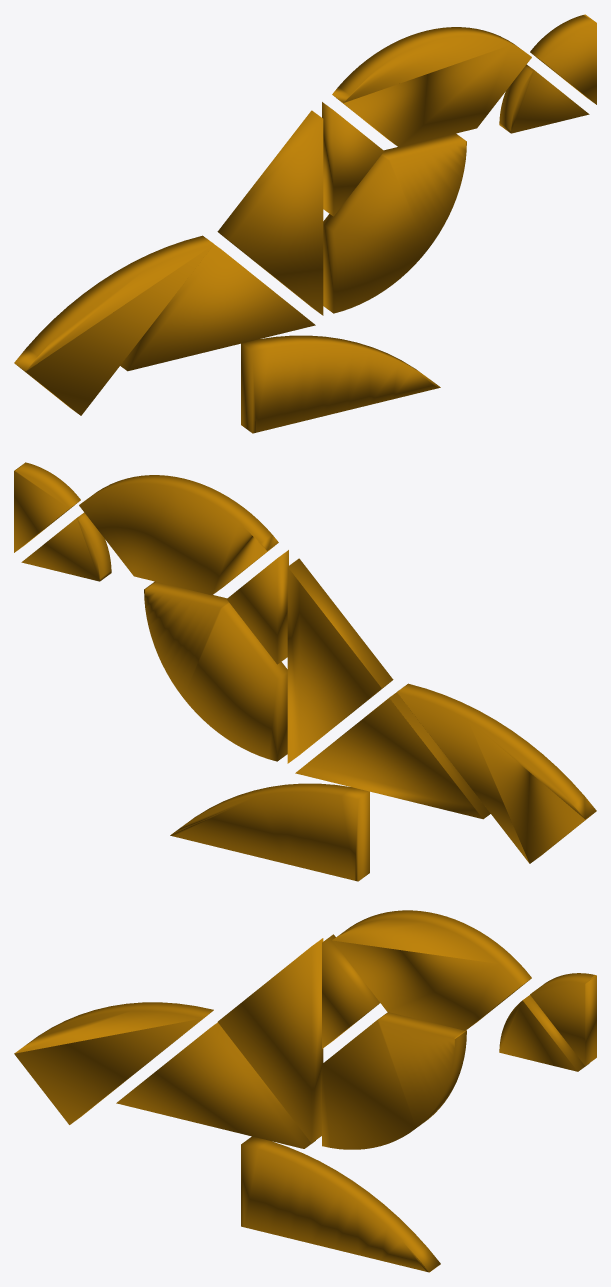
The model's file is Poultry.glb.
3 renders of one model, top to bottom at view 1: azimuth 30°, elevation 25°; view 2: azimuth 150°, elevation 25°; view 3: azimuth 330°, elevation 25°, orthographic.
Parts seen in each view (by area): view 1: Curve.116, Curve.114, Curve.121, Curve.115, Curve.119, Curve.120, Curve.122, Curve.118, Curve.117; view 2: Curve.116, Curve.114, Curve.121, Curve.115, Curve.119, Curve.120, Curve.122, Curve.118, Curve.117; view 3: Curve.114, Curve.116, Curve.115, Curve.121, Curve.119, Curve.120, Curve.118, Curve.122, Curve.117.
Part boxes in pixels (x1,y1,x2,y2): Curve.116: [323, 133, 466, 313]; Curve.114: [332, 27, 531, 147]; Curve.121: [14, 235, 214, 415]; Curve.115: [241, 335, 440, 433]; Curve.119: [217, 110, 323, 315]; Curve.120: [120, 244, 315, 371]; Curve.122: [322, 102, 383, 216]; Curve.118: [530, 14, 596, 104]; Curve.117: [499, 64, 589, 133]; Curve.116: [144, 581, 287, 761]; Curve.114: [79, 475, 278, 595]; Curve.121: [396, 683, 596, 863]; Curve.115: [170, 783, 369, 881]; Curve.119: [287, 558, 393, 763]; Curve.120: [295, 692, 490, 819]; Curve.122: [227, 550, 288, 664]; Curve.118: [14, 462, 80, 552]; Curve.117: [21, 512, 111, 581]; Curve.114: [332, 910, 531, 1030]; Curve.116: [322, 1012, 466, 1149]; Curve.115: [241, 1136, 440, 1272]; Curve.121: [14, 1002, 213, 1124]; Curve.119: [218, 938, 323, 1143]; Curve.120: [116, 1022, 315, 1148]; Curve.118: [530, 973, 596, 1065]; Curve.122: [322, 934, 379, 1048]; Curve.117: [499, 995, 589, 1071].
Size of the model in its own units: 3.25 by 1.9 by 0.115.
